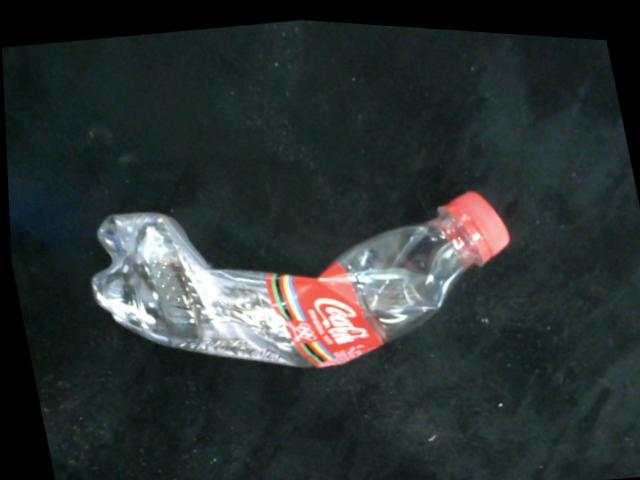bottle: (85, 181, 512, 367)
